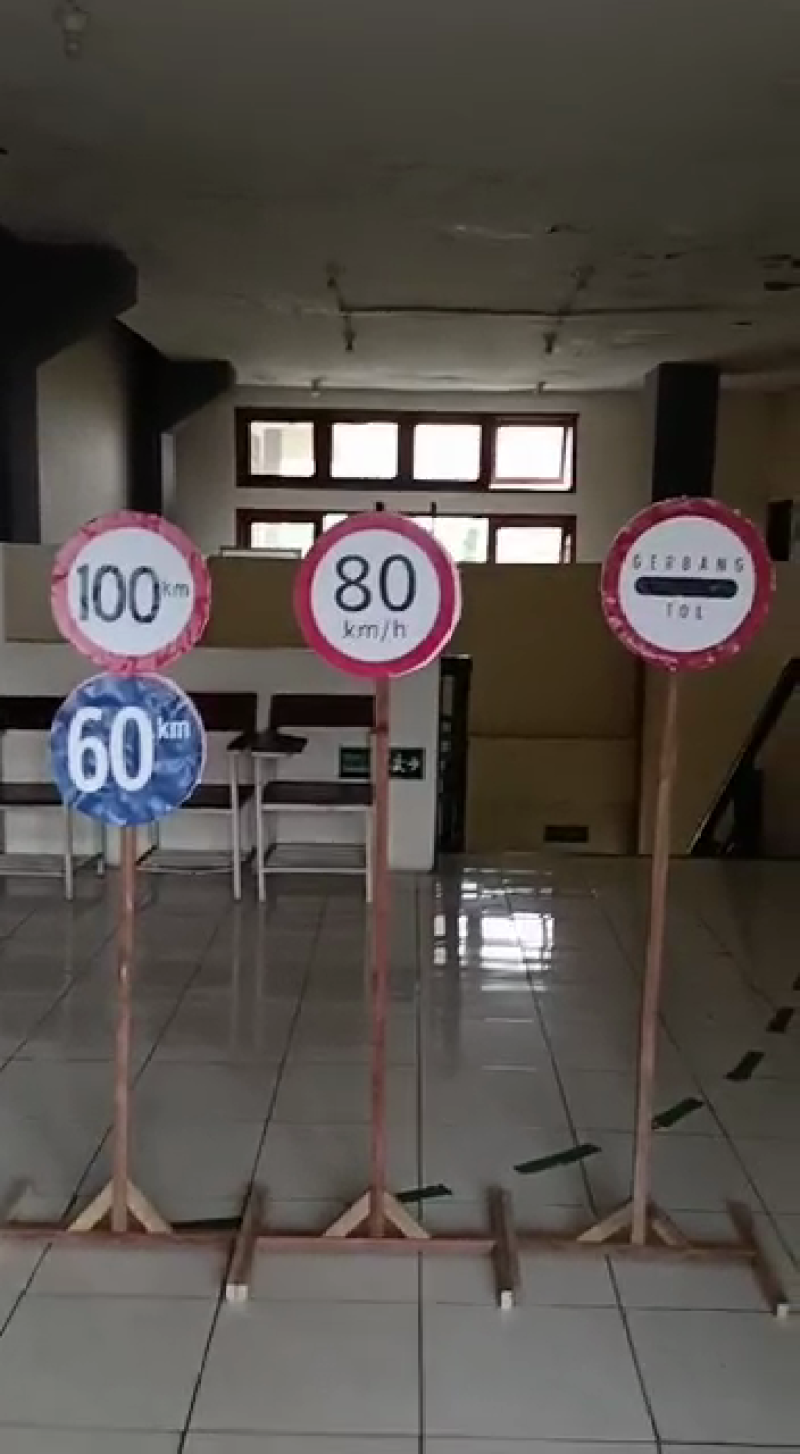batas maksimal 100kmperjam minimal 60kmperjam: (37, 496, 207, 853)
batas maksimal 80kmperjam: (285, 492, 468, 685)
gerbang tol: (587, 492, 783, 679)
